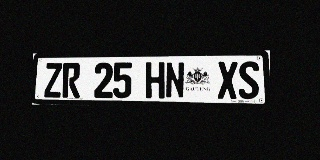2: (94, 62, 113, 98)
5: (113, 62, 132, 98)
H: (145, 62, 165, 98)
N: (165, 62, 185, 99)
R: (62, 63, 80, 98)
S: (238, 61, 259, 99)
X: (217, 61, 238, 99)
Z: (44, 63, 62, 98)
